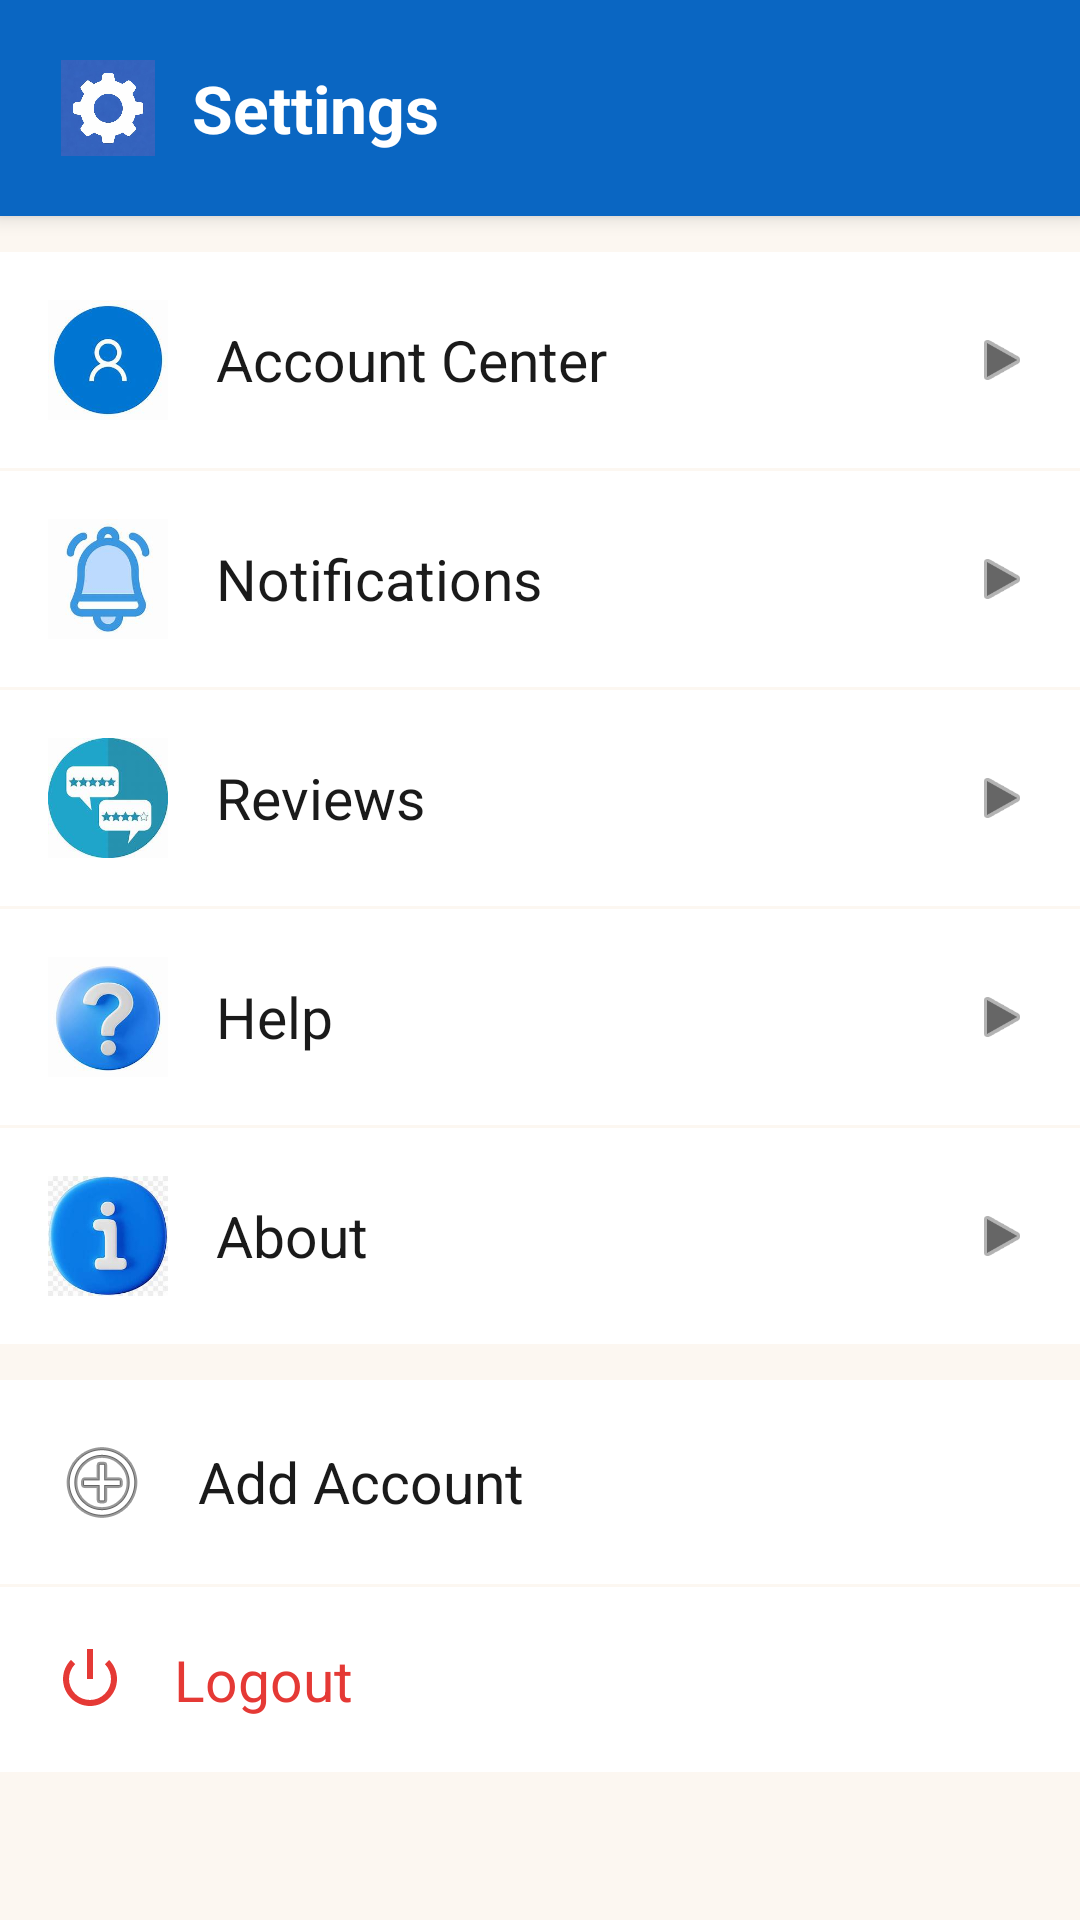

Icon click points for this 1080 × 1920 phone screenshot, format [x,y]:
Arrow: [1002,360], [1002,579], [1002,798], [1002,1017], [1002,1236]
